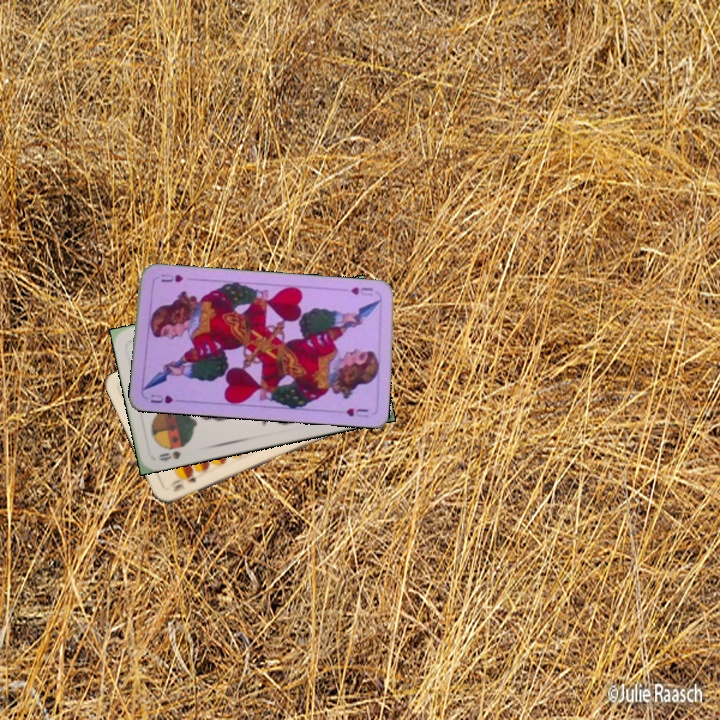E10: (169, 473, 199, 494)
HU: (147, 390, 175, 406), (347, 283, 375, 299)
SO: (154, 447, 184, 464)
